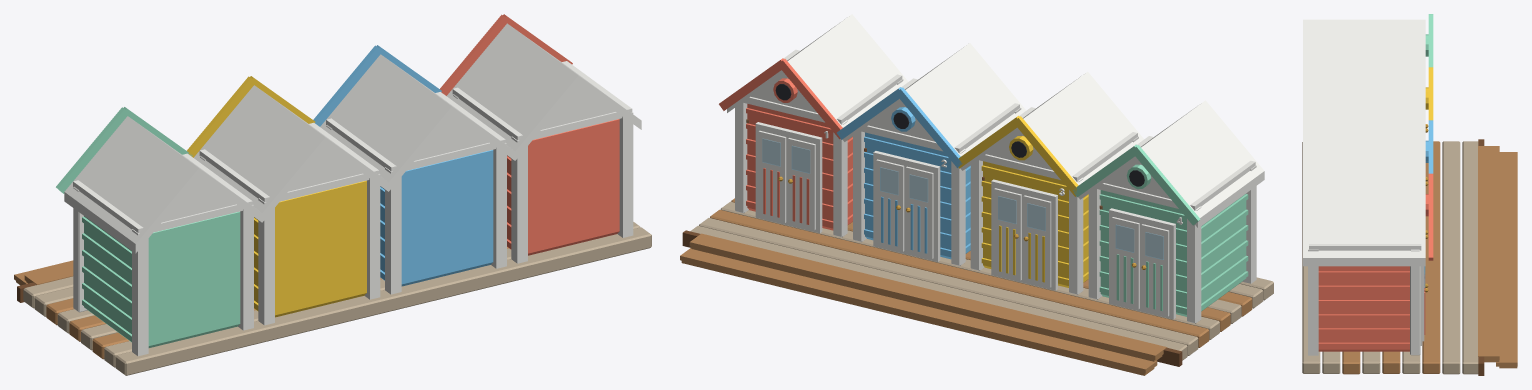
Rendered from BeachCabanas.fbx.
3 renders of one model, left to right at view 1: azimuth 30°, elevation 25°; view 2: azimuth 150°, elevation 25°; view 3: azimuth 270°, elevation 25°, orthographic. The views are drawn at different scales.
Visible parts, largest first — view 1: BeachCabanas_White, BeachCabanas_Mint, BeachCabanas_Driftwood, BeachCabanas_SkyBlue, BeachCabanas_Coral, BeachCabanas_Yellow, BeachCabanas_Plank; view 2: BeachCabanas_White, BeachCabanas_Plank, BeachCabanas_Driftwood, BeachCabanas_Mint, BeachCabanas_SkyBlue, BeachCabanas_Coral, BeachCabanas_Yellow, BeachCabanas_Glass, BeachCabanas_Charcoal, BeachCabanas_WoodDark; view 3: BeachCabanas_White, BeachCabanas_Plank, BeachCabanas_Driftwood, BeachCabanas_Coral, BeachCabanas_SkyBlue, BeachCabanas_Mint, BeachCabanas_Yellow.
Boxes of the visible parts, x1,y1,x2,y2 form: BeachCabanas_White: [64, 23, 641, 356]; BeachCabanas_Mint: [56, 107, 240, 347]; BeachCabanas_Driftwood: [23, 222, 651, 375]; BeachCabanas_SkyBlue: [313, 45, 493, 286]; BeachCabanas_Coral: [440, 14, 619, 255]; BeachCabanas_Yellow: [187, 76, 366, 317]; BeachCabanas_Plank: [14, 247, 508, 359]; BeachCabanas_White: [727, 14, 1264, 323]; BeachCabanas_Plank: [680, 198, 1252, 375]; BeachCabanas_Driftwood: [690, 201, 1273, 360]; BeachCabanas_Mint: [1073, 144, 1248, 316]; BeachCabanas_SkyBlue: [837, 87, 970, 259]; BeachCabanas_Coral: [719, 58, 852, 230]; BeachCabanas_Yellow: [958, 115, 1088, 287]; BeachCabanas_Glass: [762, 138, 1163, 259]; BeachCabanas_Charcoal: [775, 84, 1144, 186]; BeachCabanas_WoodDark: [682, 119, 1182, 366]; BeachCabanas_White: [1303, 19, 1425, 355]; BeachCabanas_Plank: [1342, 141, 1517, 374]; BeachCabanas_Driftwood: [1302, 141, 1478, 374]; BeachCabanas_Coral: [1318, 173, 1433, 351]; BeachCabanas_SkyBlue: [1425, 120, 1433, 173]; BeachCabanas_Mint: [1425, 14, 1433, 67]; BeachCabanas_Yellow: [1425, 67, 1433, 120].
Size of the model in its own units: 35.4 by 12.49 by 14.37.
